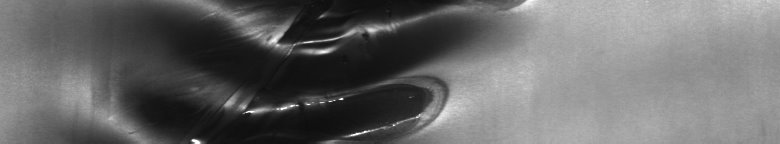ke: (191, 4, 521, 136)
